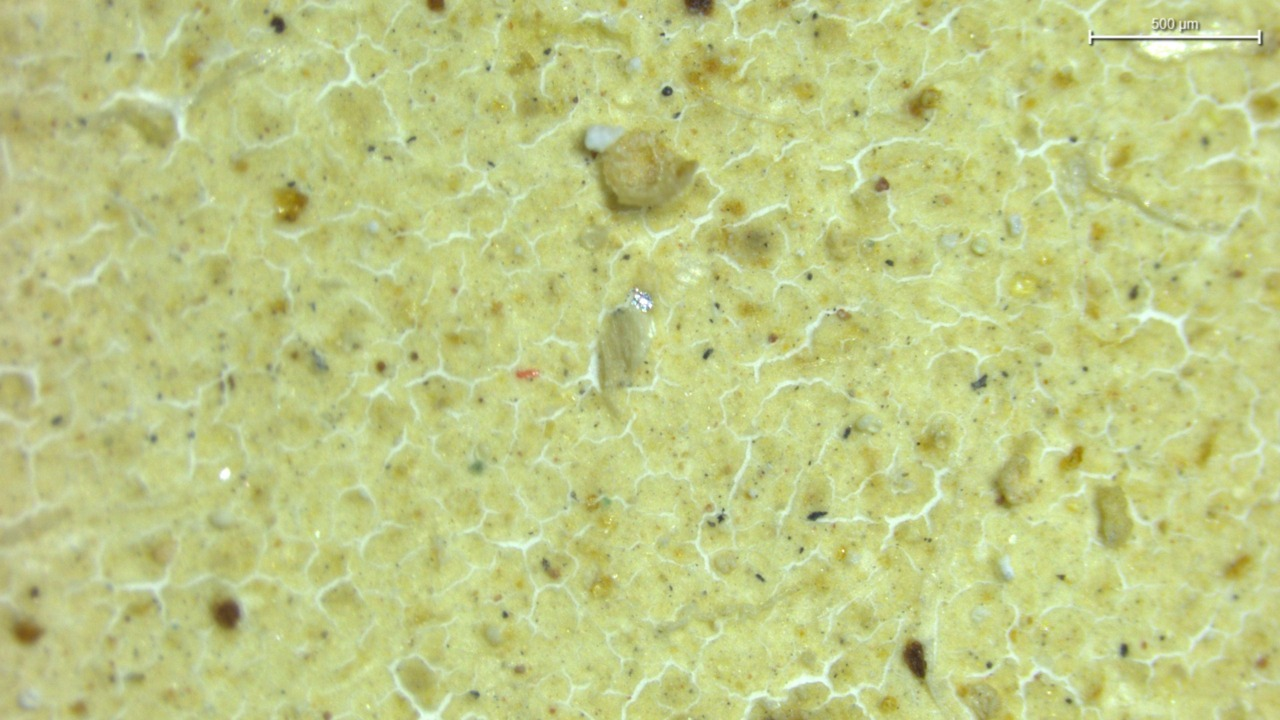microplastic_fragment: (598, 129, 697, 207), (584, 124, 625, 153)
